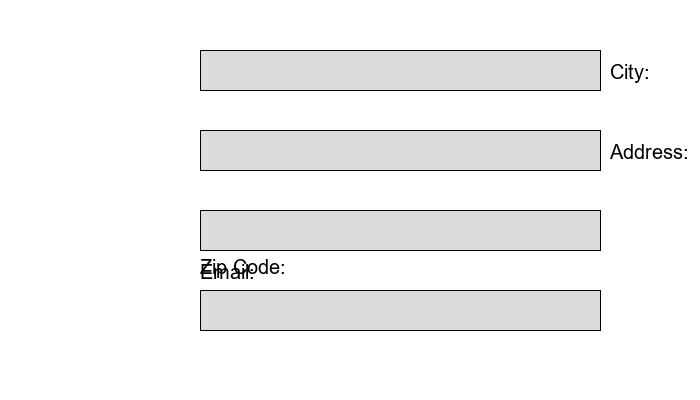Label: (200, 255, 280, 274), (610, 140, 684, 155), (200, 260, 249, 275), (610, 60, 644, 79)
Textbox: (200, 50, 600, 90), (200, 130, 600, 170), (200, 210, 600, 250), (200, 290, 600, 330)
